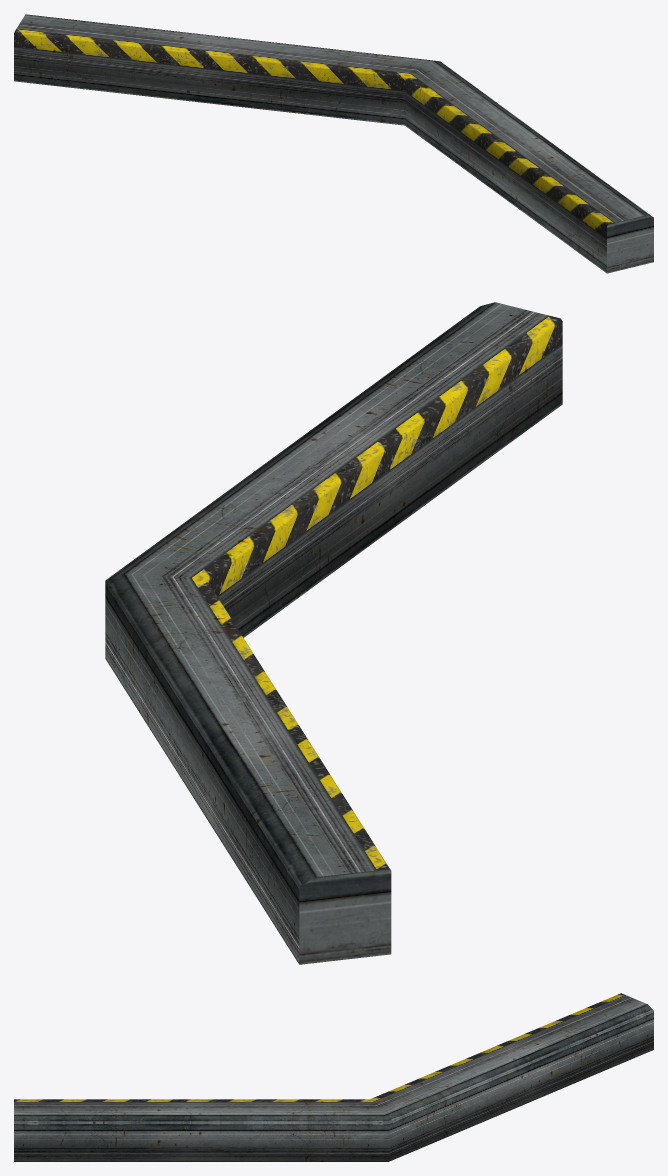
Rendered from Edges_05.fbx.
3 renders of one model, top to bottom at view 1: azimuth 30°, elevation 25°; view 2: azimuth 150°, elevation 25°; view 3: azimuth 270°, elevation 25°, orthographic. The views are drawn at different scales.
Visible parts, largest first — view 1: Edges_05; view 2: Edges_05; view 3: Edges_05.
Boxes of the visible parts, x1=… form: Edges_05: x1=14, y1=14, x2=653, y2=273; Edges_05: x1=105, y1=302, x2=562, y2=964; Edges_05: x1=14, y1=993, x2=653, y2=1161.
Size of the model in its own units: 173 by 27.46 by 371.
Materials: 1 (1 with a texture image).
